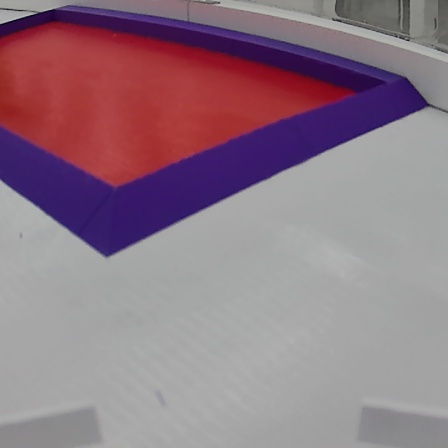red_aim: (2, 3, 427, 255)
